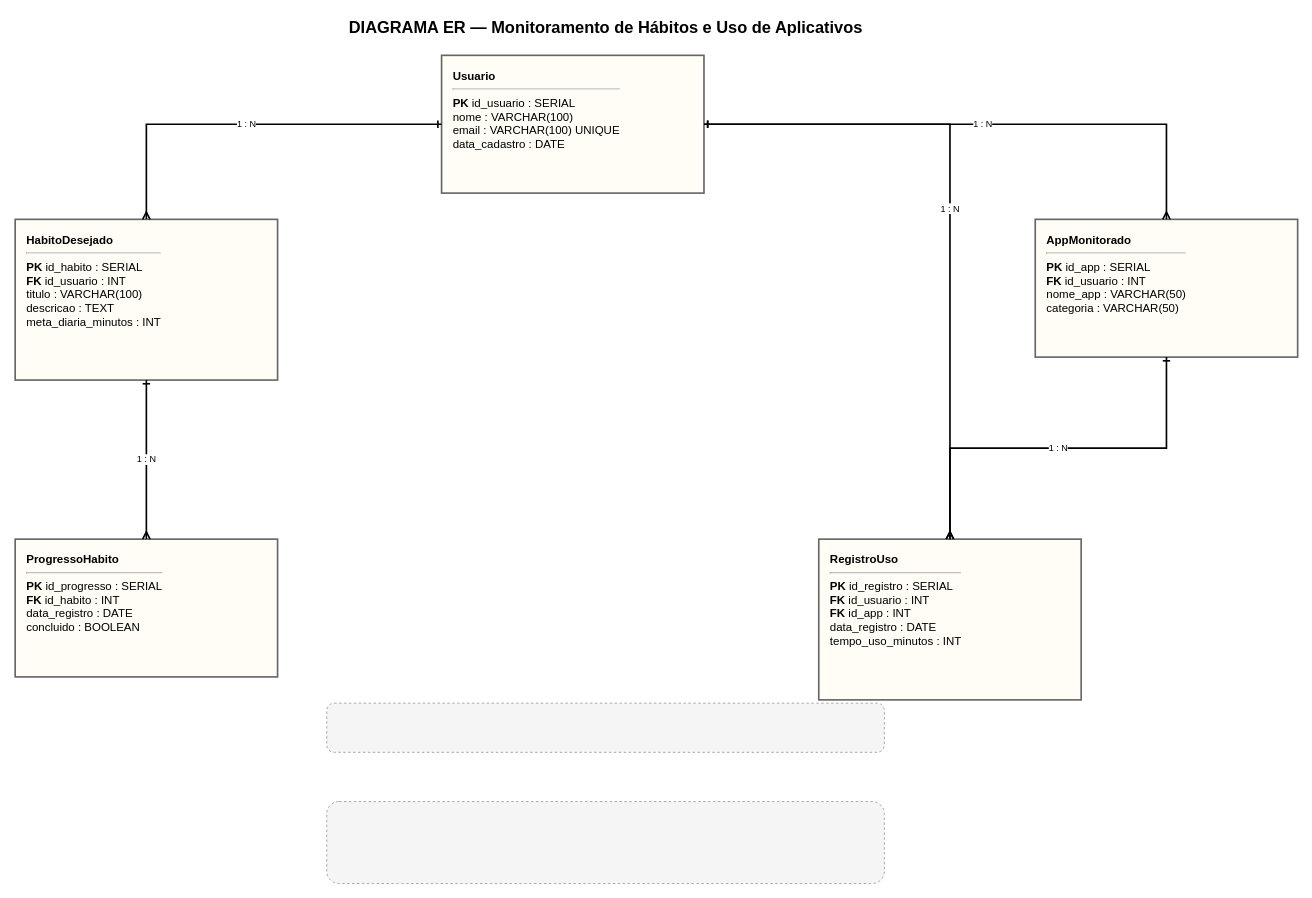
This 1312x898 diagram has some shape labels left out. Each missing label, with the centre of its shape:
Integrantes: Ghabriel Villas Boas Giovani Gustavo Oliveira Rubens Araujo: point (605, 842)
Legenda PK = Chave Primária FK = Chave Estrangeira 1:N = Um para Muitos: point (605, 727)
